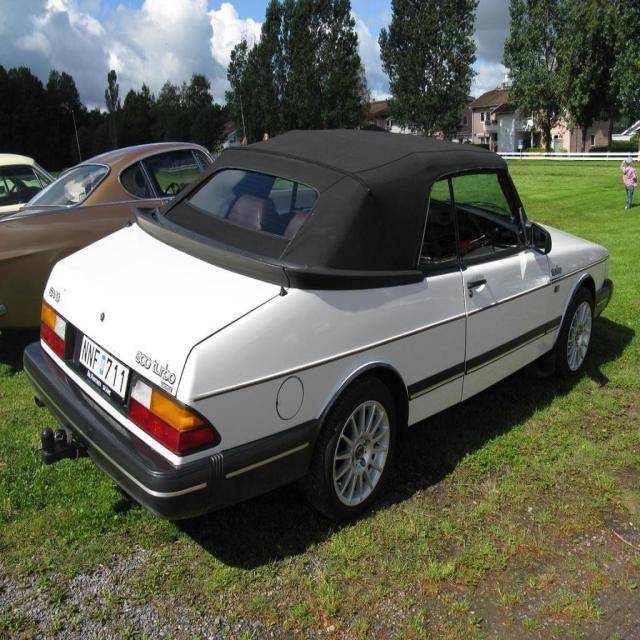car: (21, 126, 614, 514)
